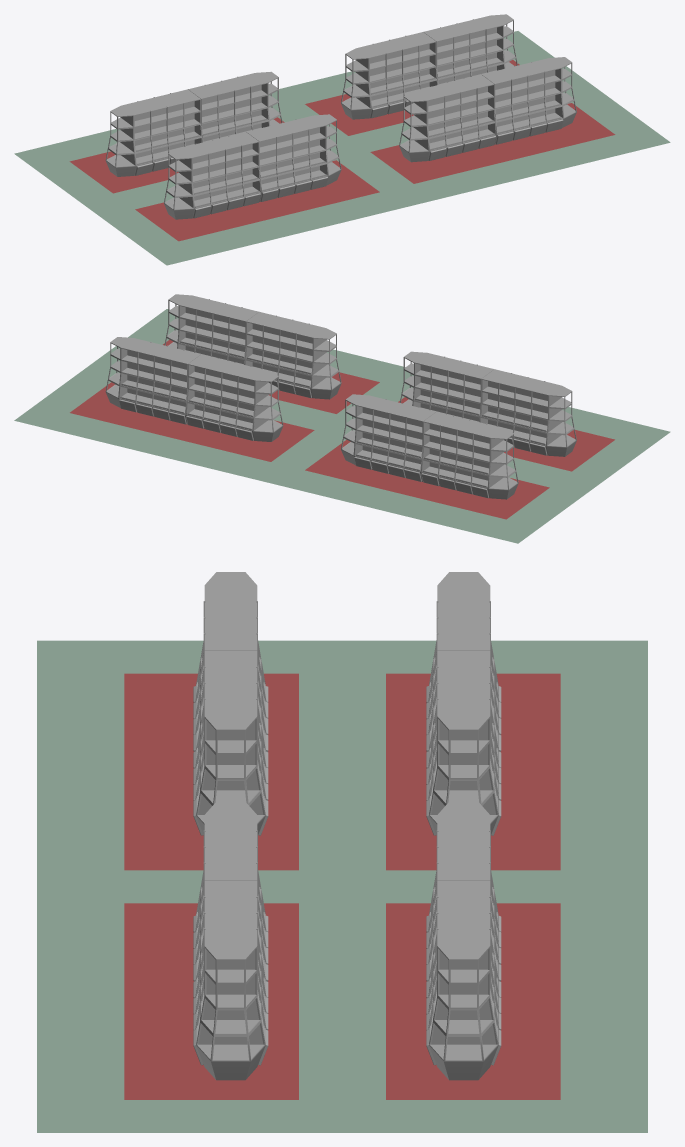
The model's file is superMarketTest.fbx.
3 views of the same model, one above another, from view 1: azimuth 30°, elevation 25°; view 2: azimuth 150°, elevation 25°; view 3: azimuth 270°, elevation 25° (orthographic). The views are drawn at different scales.
Parts seen in each view (by area): view 1: pPlane1, Shelf_B_015 (×4), Shelf_B_013 (×4), Shelf_B_014 (×4), Shelf_B_016 (×4), pCube2 (×4), pCube6, pCube7, pCube8, pCube9; view 2: pPlane1, Shelf_B_014 (×4), Shelf_B_016 (×4), Shelf_B_015 (×4), Shelf_B_013 (×4), pCube2 (×4), pCube6, pCube7, pCube9, pCube8; view 3: pPlane1, Shelf_B_014 (×4), Shelf_B_013 (×4), Shelf_B_016 (×4), Shelf_B_015 (×4), pCube2 (×2), pCube9, pCube8.
Boxes of the visible parts, box(x1,y1,x2,y2) form: pPlane1: box(14, 31, 670, 265); Shelf_B_015 (×4): box(188, 37, 496, 160); Shelf_B_013 (×4): box(127, 15, 554, 218); Shelf_B_014 (×4): box(120, 20, 563, 202); Shelf_B_016 (×4): box(195, 32, 487, 201); pCube2 (×4): box(255, 48, 429, 185); pCube6: box(164, 148, 194, 219); pCube7: box(105, 106, 135, 176); pCube8: box(549, 57, 576, 127); pCube9: box(490, 14, 517, 68); pPlane1: box(14, 309, 670, 543); Shelf_B_014 (×4): box(127, 295, 554, 498); Shelf_B_016 (×4): box(186, 316, 494, 440); Shelf_B_015 (×4): box(195, 312, 487, 481); Shelf_B_013 (×4): box(118, 300, 561, 481); pCube2 (×4): box(253, 328, 427, 465); pCube6: box(546, 385, 576, 456); pCube7: box(488, 428, 518, 499); pCube9: box(105, 337, 133, 407); pCube8: box(164, 294, 191, 348); pPlane1: box(37, 640, 647, 1132); Shelf_B_014 (×4): box(193, 585, 501, 1065); Shelf_B_013 (×4): box(193, 585, 501, 1065); Shelf_B_016 (×4): box(193, 651, 501, 981); Shelf_B_015 (×4): box(193, 651, 501, 981); pCube2 (×2): box(196, 716, 498, 834); pCube9: box(429, 946, 498, 1080); pCube8: box(196, 946, 265, 1080).
Size of the model in its own units: 150 by 17.45 by 78.75.
